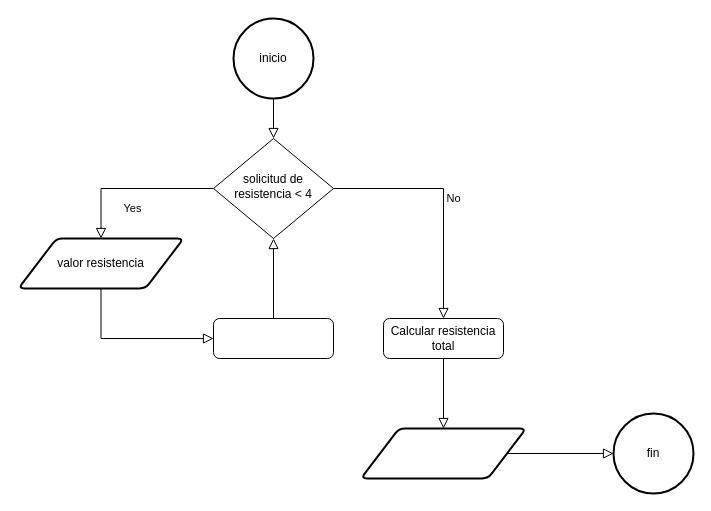
Image size: 711x511. Some labels were removed from this diagram. Each missing label, with the centre of its shape:
"Guardar Resistencia" goes at pixel 273 338.
"mostrar resultado" goes at pixel 443 453.
